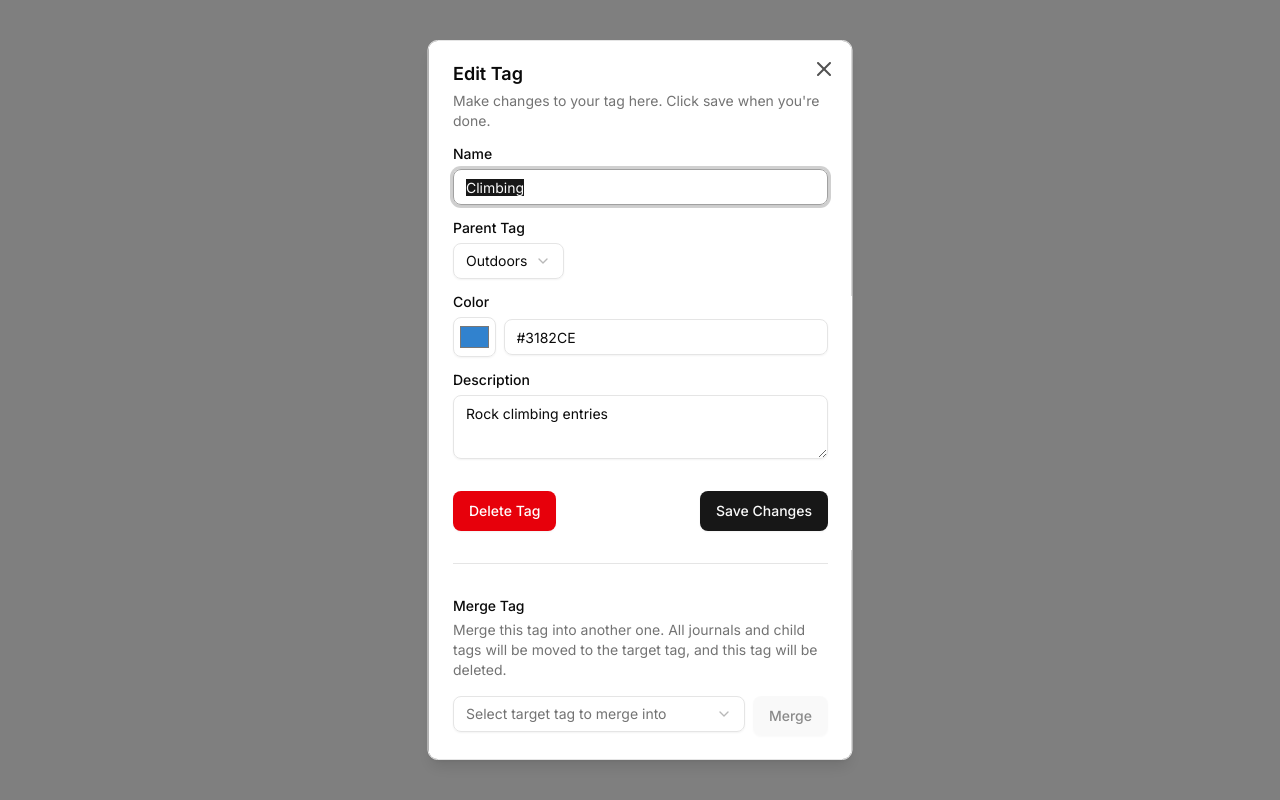
Test case: JournalTagManagementDialog › excludes the tag itself and its descendants from the parent options
Click the dropdown named "Parent Tag" at point(508, 261), box [452,243,564,279]
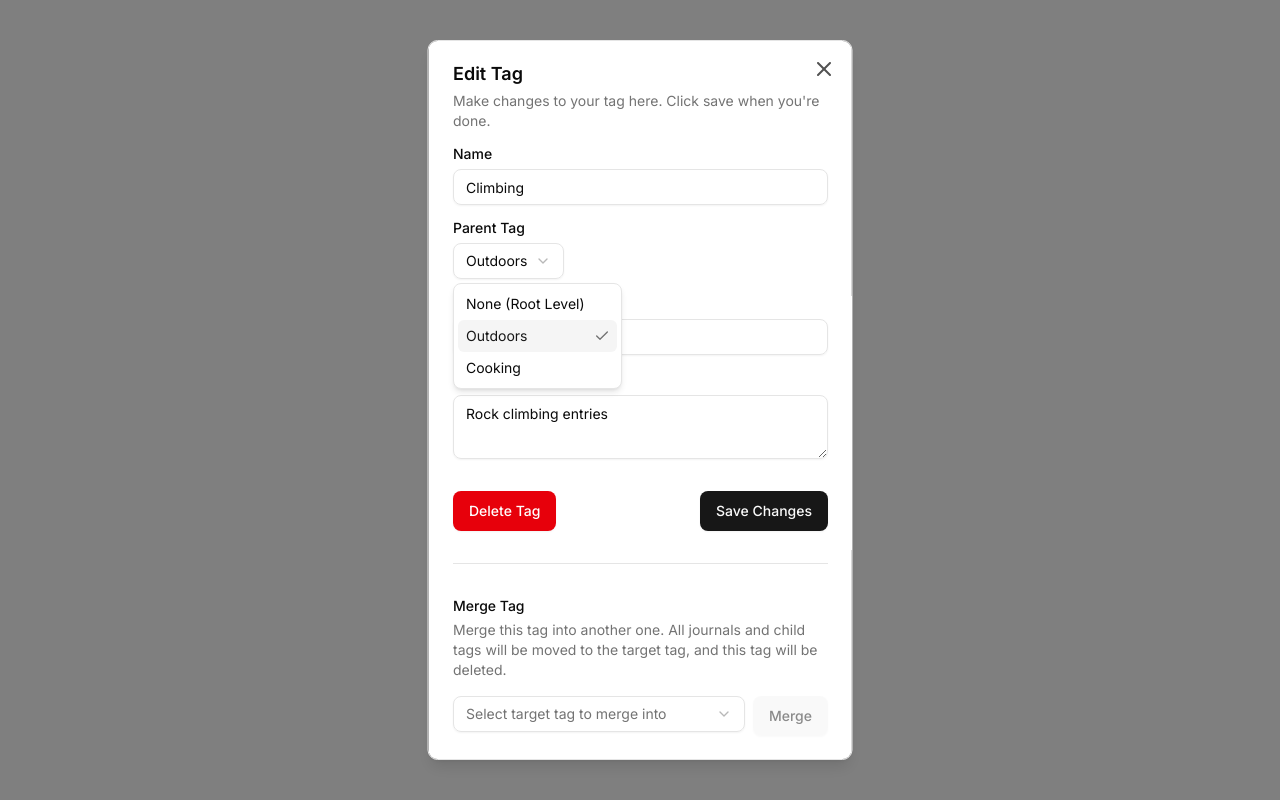
Expected: the option "Cooking" is shown, [466,359,521,376]
Expected: the option "Outdoors" is shown, [458,320,617,352]
